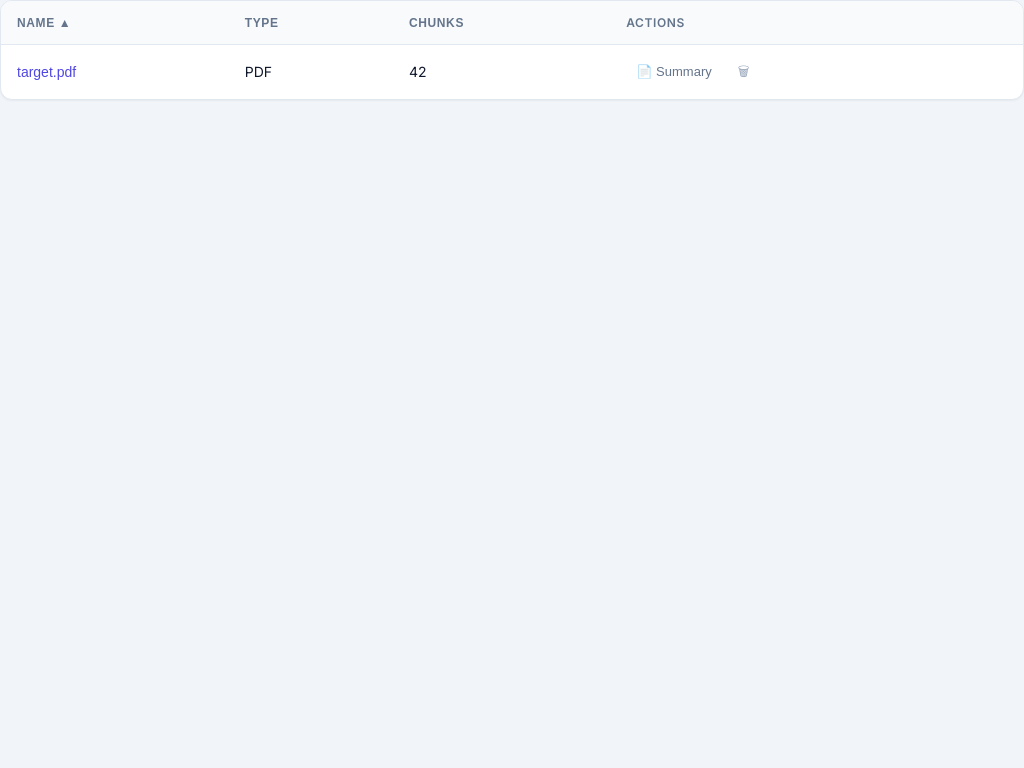
Test: DocumentTable — delete flow › shows confirmation dialog when delete button clicked
The width and height of the screenshot is (1024, 768).
Click the button named "delete target.pdf" at (744, 72), box top-left (728, 57), bottom-right (759, 87)
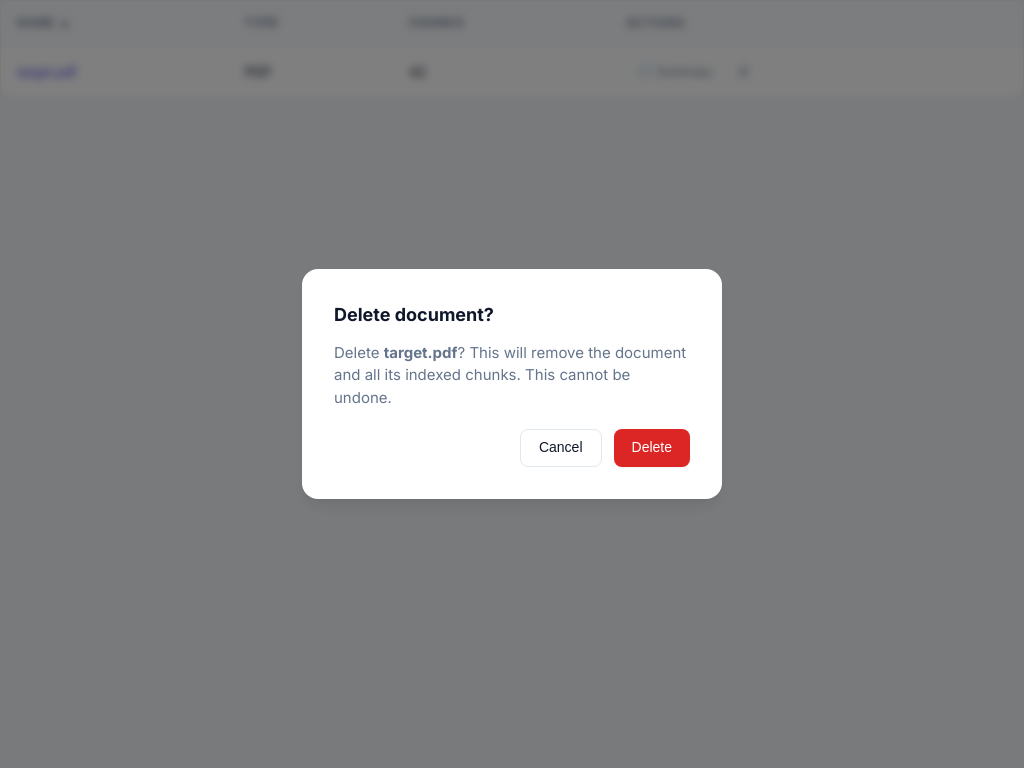
Result: the dialog is shown
Result: the dialog shows "target.pdf" at top-left (384, 343), bottom-right (458, 362)
